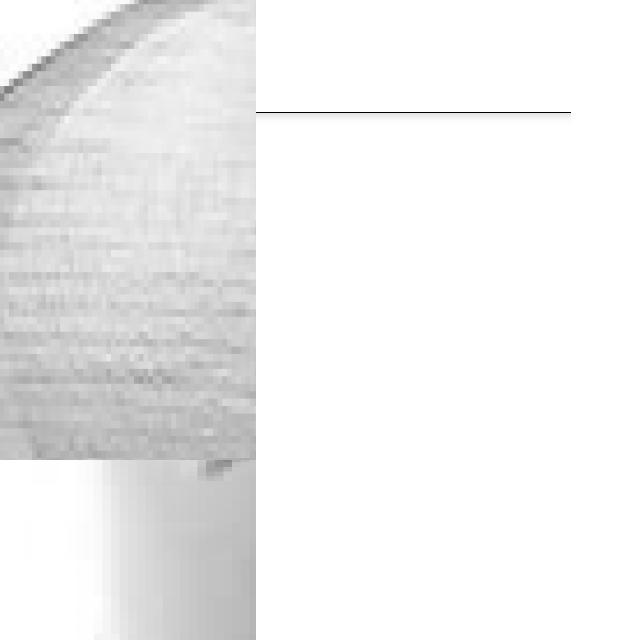forks: (256, 0, 452, 396)
spoons: (0, 0, 256, 460)
